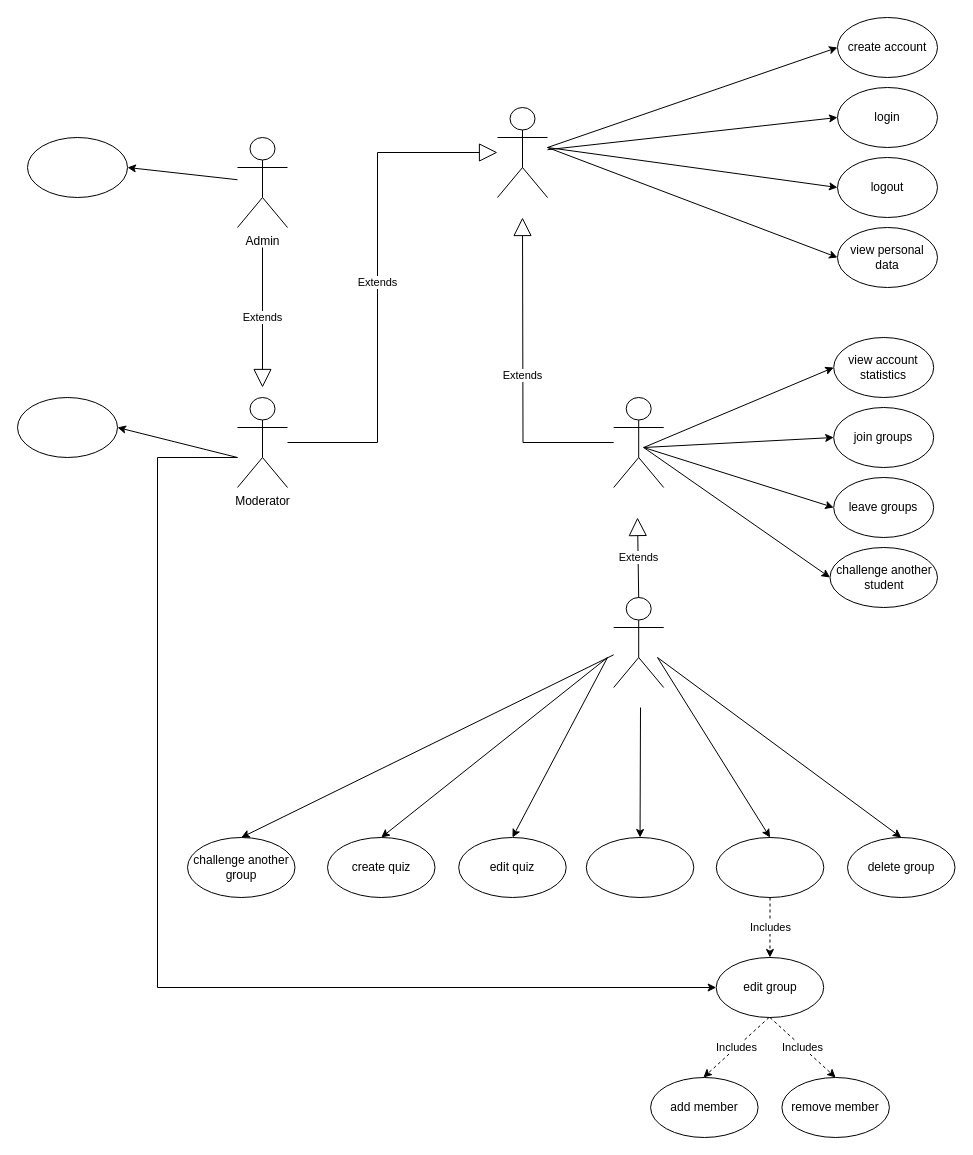
Some shapes in this 973 by 1155 pixel diagram are drawn without their labels. Each missing label, with the centre of its shape:
"create group" belongs at [769,867].
"delete quiz" belongs at [639,867].
"edit quiz templates" belongs at [67,427].
"edit user accounts" belongs at [77,167].
"Professor" belongs at [638,642].
"Student" belongs at [638,442].
"User" belongs at [522,152].
